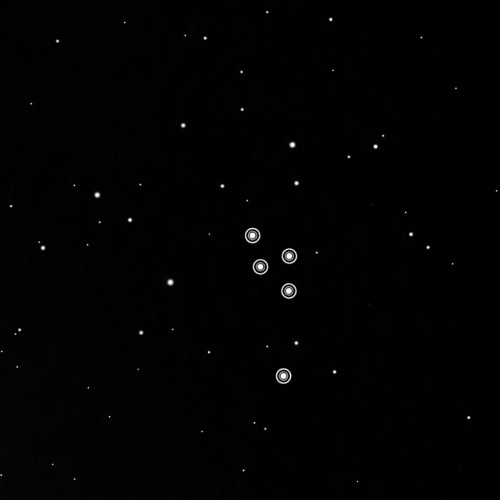delphinus: (240, 220, 300, 389)
